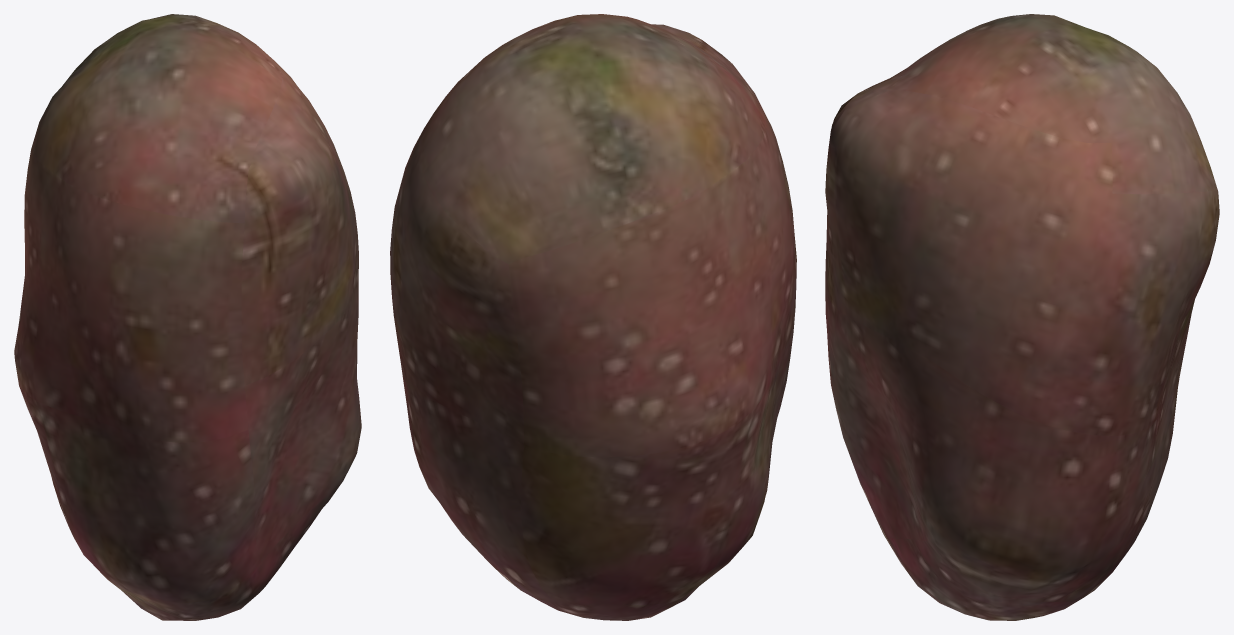
Rendered from sweet_potato.glb.
3 views of the same model, side by side, from view 1: azimuth 30°, elevation 25°; view 2: azimuth 150°, elevation 25°; view 3: azimuth 270°, elevation 25° (orthographic). The views are drawn at different scales.
Visible parts, largest first — view 1: sweet_potato; view 2: sweet_potato; view 3: sweet_potato.
Boxes of the visible parts, x1=… form: sweet_potato: x1=14, y1=14, x2=361, y2=620; sweet_potato: x1=390, y1=14, x2=796, y2=620; sweet_potato: x1=825, y1=14, x2=1219, y2=620.
Bounding box in the file's own units: 0.0581 × 0.1005 × 0.061.
Materials: 1 (1 with a texture image).
